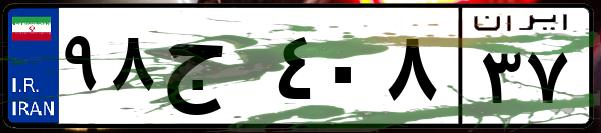0: (330, 28, 385, 110)
3: (475, 38, 525, 113)
4: (270, 28, 330, 110)
7: (525, 38, 570, 115)
8: (385, 28, 445, 110), (110, 28, 158, 98)
9: (57, 26, 110, 100)
ج: (158, 20, 270, 120)
